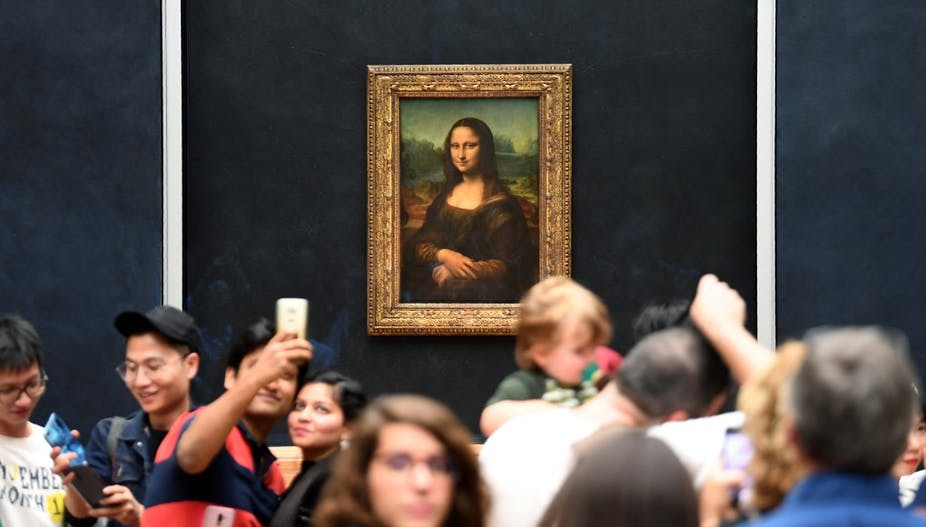without_mask: (374, 432, 453, 527), (121, 341, 181, 414), (552, 305, 602, 389), (287, 384, 338, 447), (3, 365, 46, 429), (448, 134, 480, 174)
